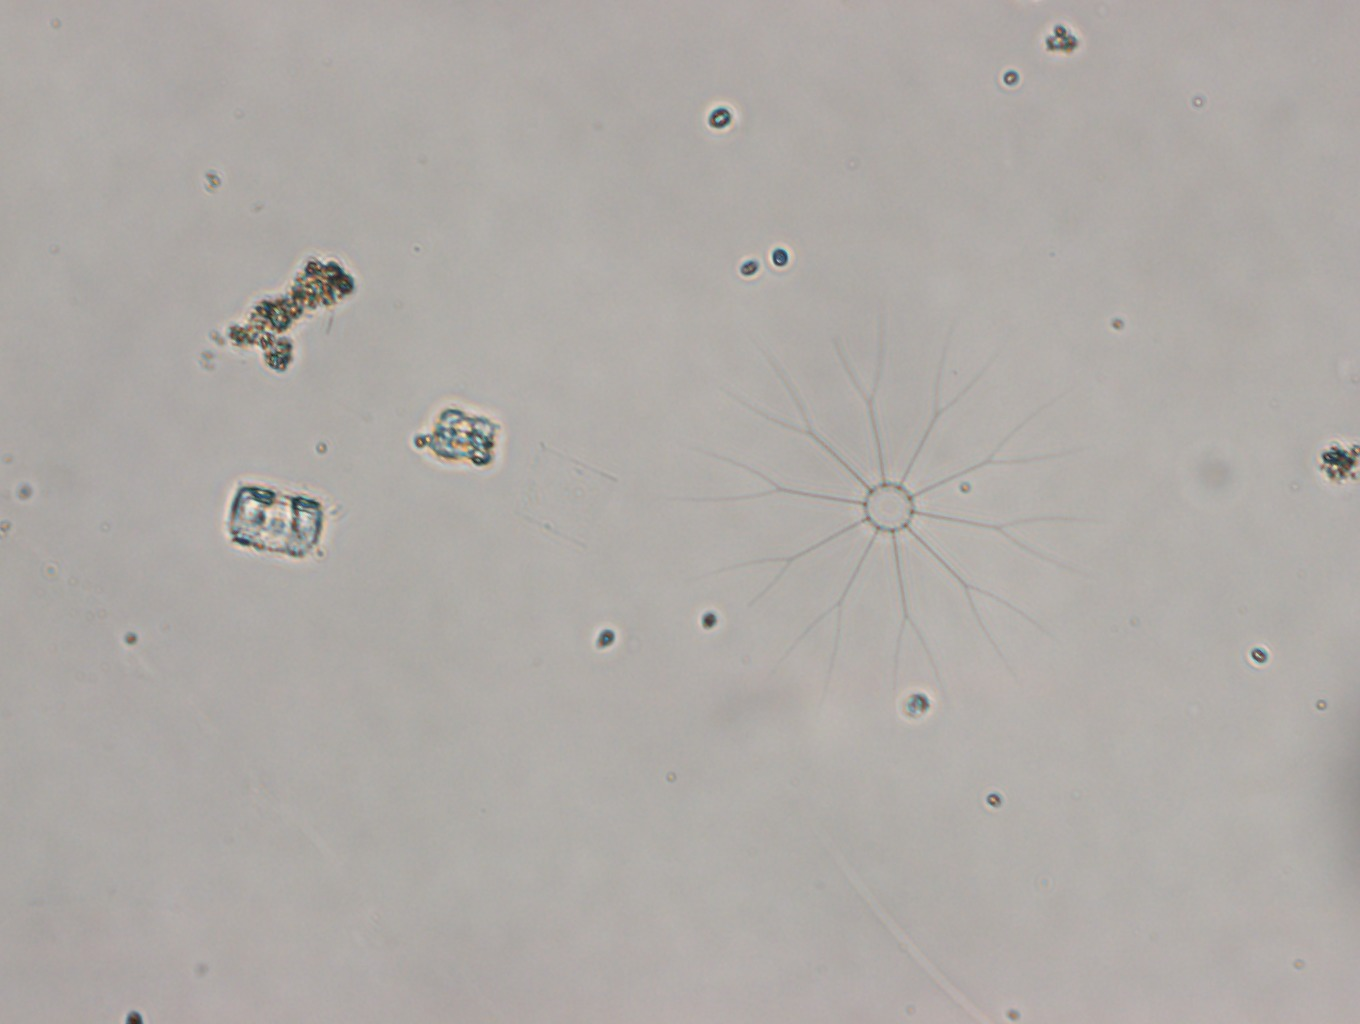bacteriastrum: (684, 305, 1100, 731)
